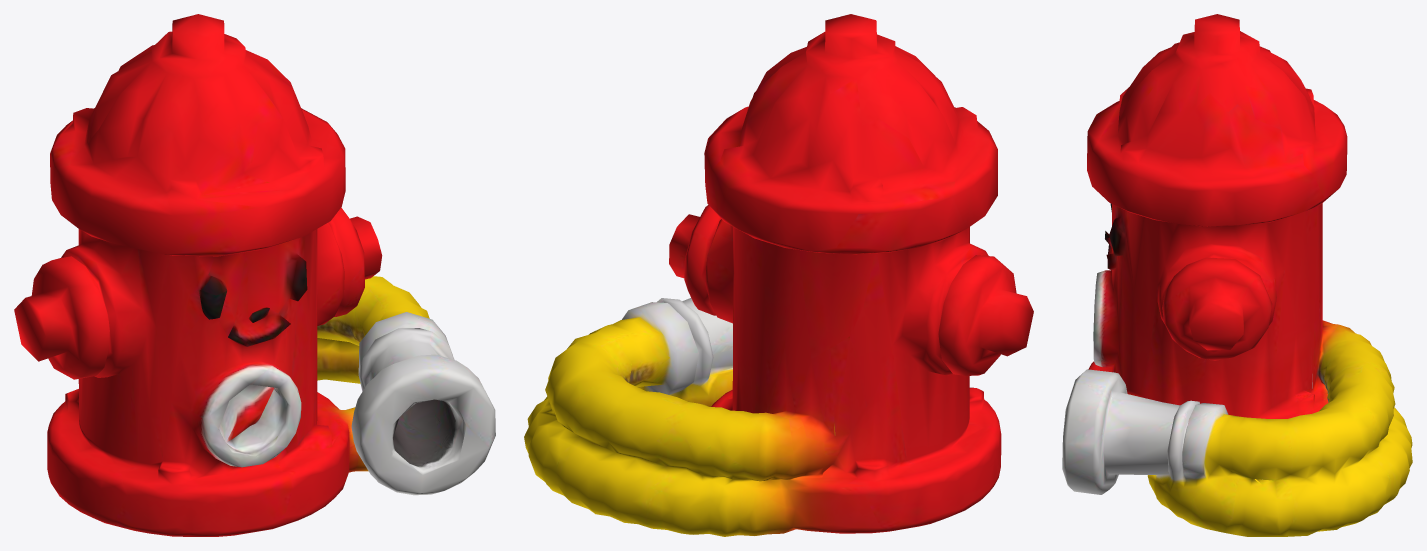
Rendered from hidrante.glb.
3 views of the same model, side by side, from view 1: azimuth 30°, elevation 25°; view 2: azimuth 150°, elevation 25°; view 3: azimuth 270°, elevation 25° (orthographic). The views are drawn at different scales.
Visible parts, largest first — view 1: tripo_node_9c45d7eb-b449-45c5-b8df-b96ceef2e809; view 2: tripo_node_9c45d7eb-b449-45c5-b8df-b96ceef2e809; view 3: tripo_node_9c45d7eb-b449-45c5-b8df-b96ceef2e809.
Boxes of the visible parts, left/top/right/bottom form: tripo_node_9c45d7eb-b449-45c5-b8df-b96ceef2e809: left=14, top=14, right=495, bottom=536; tripo_node_9c45d7eb-b449-45c5-b8df-b96ceef2e809: left=524, top=14, right=1033, bottom=536; tripo_node_9c45d7eb-b449-45c5-b8df-b96ceef2e809: left=1062, top=14, right=1412, bottom=536.
Size of the model in its own units: 0.9803 by 0.9625 by 0.7603.
1 material, 1 textured.
